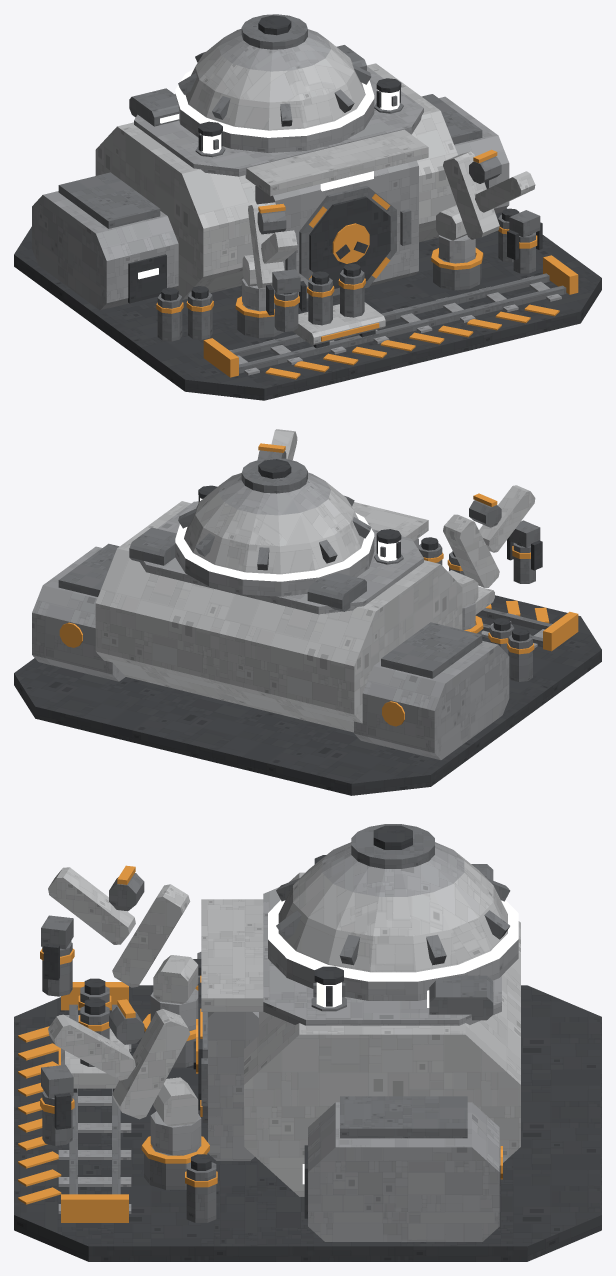
Rendered from rig_shielded_lod1.glb.
3 renders of one model, top to bottom at view 1: azimuth 30°, elevation 25°; view 2: azimuth 150°, elevation 25°; view 3: azimuth 270°, elevation 25°, orthographic. The views are drawn at different scales.
Visible parts, largest first — view 1: rig_shielded_base_body.001, rig_shielded_arm_r_body.001, rig_shielded_base_trim.001, rig_shielded_arm_l_body.001, rig_shielded_cart_body.001, rig_shielded_base_glow.001, rig_shielded_cart_trim.001; view 2: rig_shielded_base_body.001, rig_shielded_arm_l_body.001, rig_shielded_base_trim.001, rig_shielded_base_glow.001, rig_shielded_cart_body.001, rig_shielded_arm_r_body.001; view 3: rig_shielded_base_body.001, rig_shielded_arm_r_body.001, rig_shielded_arm_l_body.001, rig_shielded_base_trim.001, rig_shielded_base_glow.001, rig_shielded_cart_body.001.
Boxes of the visible parts, x1,y1,x2,y2 form: rig_shielded_base_body.001: (14, 14, 601, 400); rig_shielded_arm_r_body.001: (436, 151, 542, 273); rig_shielded_base_trim.001: (156, 193, 578, 379); rig_shielded_arm_l_body.001: (242, 202, 306, 331); rig_shielded_cart_body.001: (293, 263, 385, 348); rig_shielded_base_glow.001: (138, 69, 399, 279); rig_shielded_cart_trim.001: (307, 278, 379, 341); rig_shielded_base_body.001: (14, 458, 601, 795); rig_shielded_arm_l_body.001: (443, 485, 542, 629); rig_shielded_base_trim.001: (59, 600, 578, 726); rig_shielded_base_glow.001: (175, 498, 399, 581); rig_shielded_cart_body.001: (419, 537, 494, 614); rig_shielded_arm_r_body.001: (257, 429, 297, 460); rig_shielded_base_body.001: (14, 824, 601, 1261); rig_shielded_arm_r_body.001: (41, 1006, 201, 1155); rig_shielded_arm_l_body.001: (41, 867, 198, 1030); rig_shielded_base_trim.001: (18, 975, 502, 1222); rig_shielded_base_glow.001: (268, 900, 518, 1184); rig_shielded_cart_body.001: (61, 978, 128, 1092).
Bounding box in the file's own units: 2.9 × 1.54 × 2.76.
Materials: 3 (1 with a texture image).
